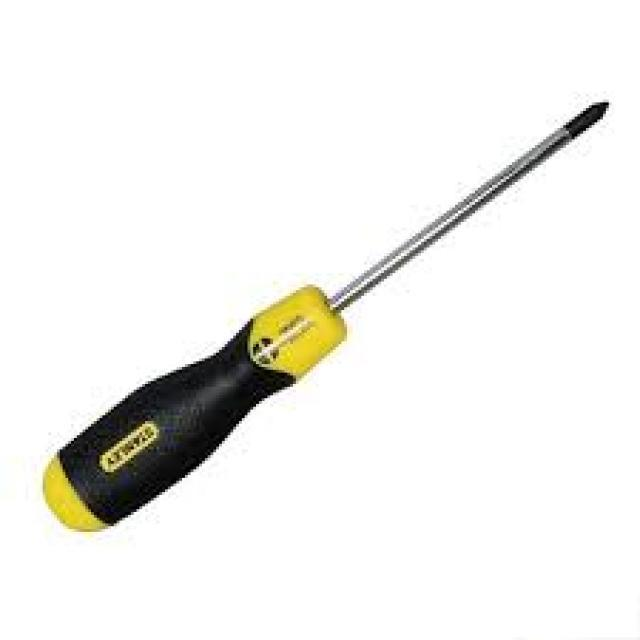screwdriver: (38, 97, 619, 534)
